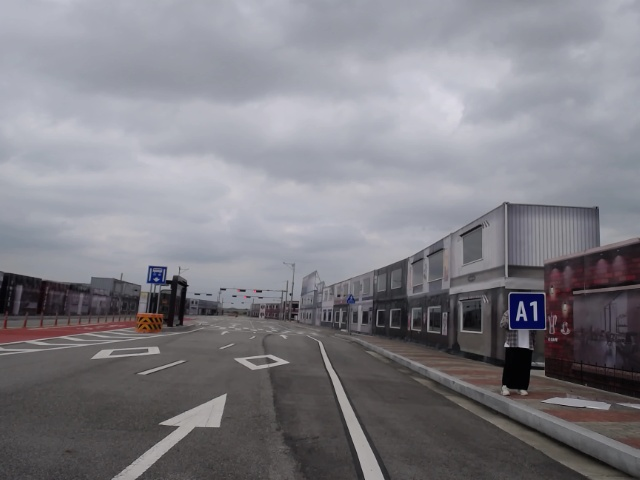delivery_a1: (509, 292, 546, 330)
